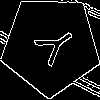Y: (25, 20, 80, 73)
